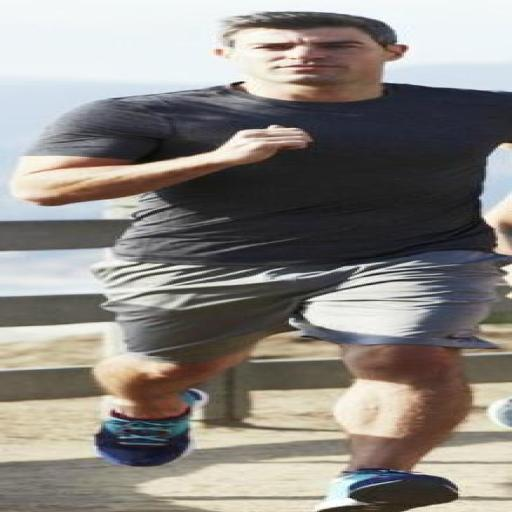person: (12, 12, 511, 511), (487, 195, 511, 254)
